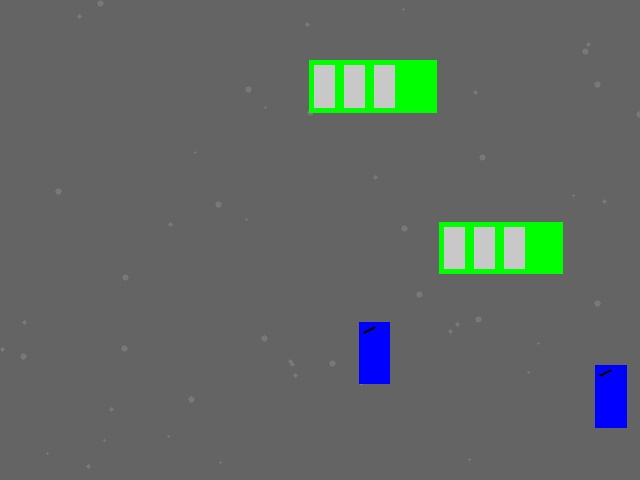bus: (309, 60, 436, 112), (439, 222, 562, 273)
motorcycle: (595, 365, 626, 427), (359, 322, 389, 383)
